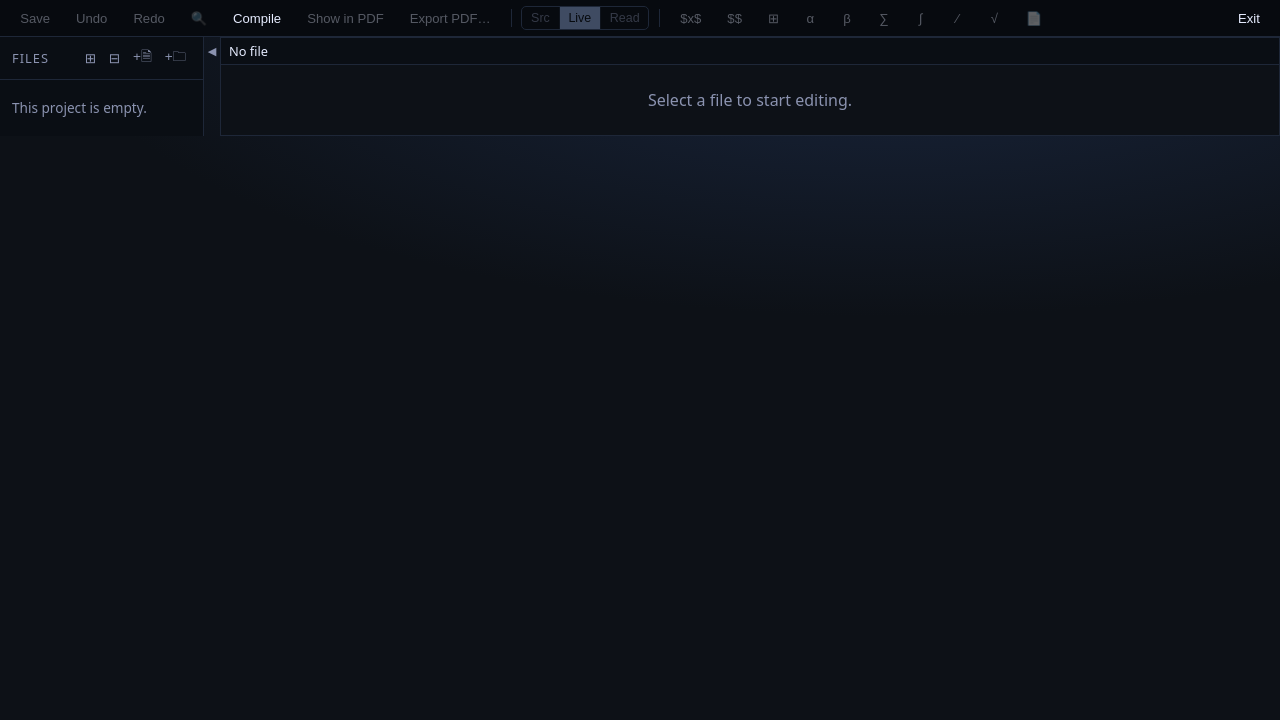
Test case: ProjectPage › previews the filename that will be created
Expected: the text "This project is empty." is shown, [12,98,147,117]
Click the button titled "New file" at (142, 58), box [128,46,157,70]
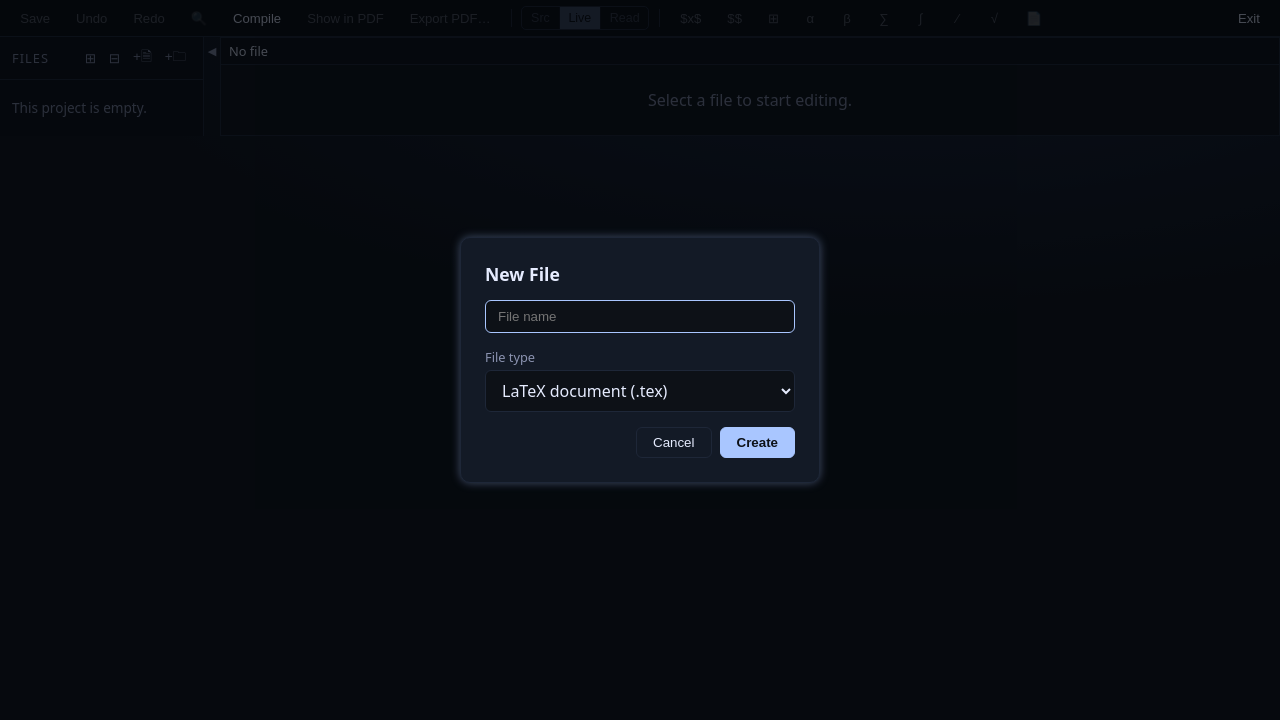
Type "notes" into the field with placeholder "File name" at (640, 317), box [485,300,795,333]
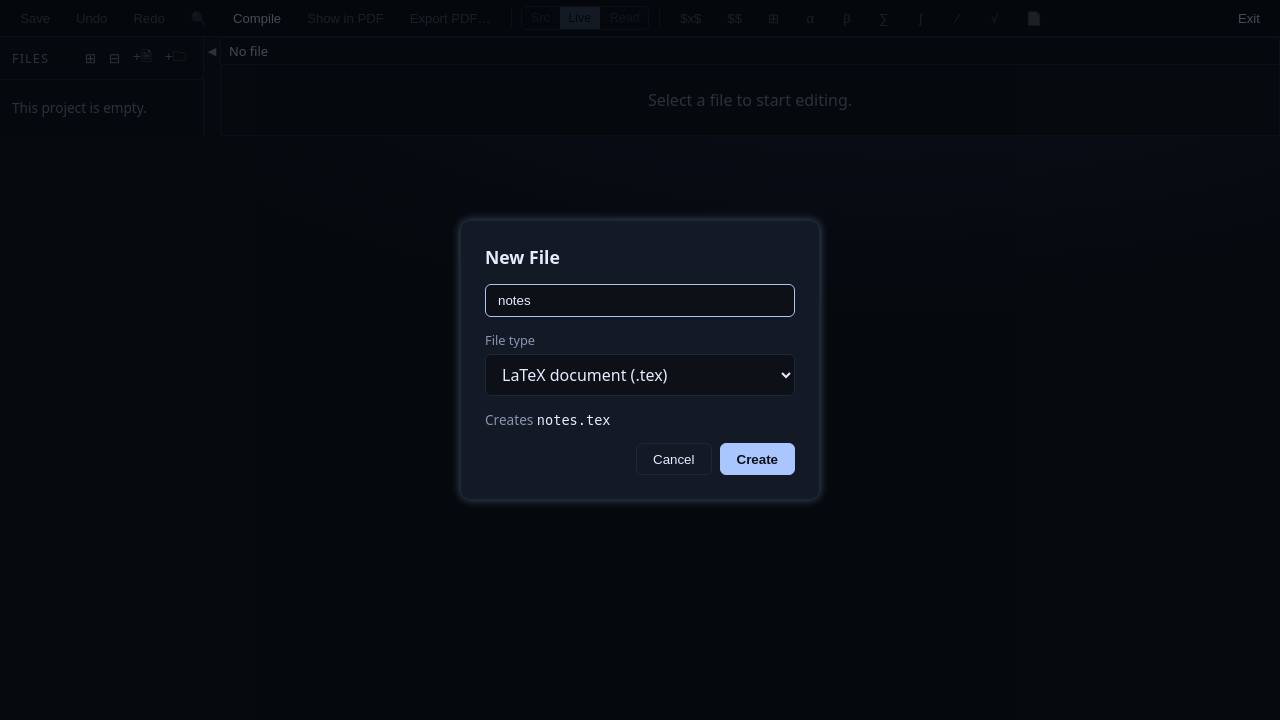
Result: the text "notes.tex" is shown at [537,412,611,428]
